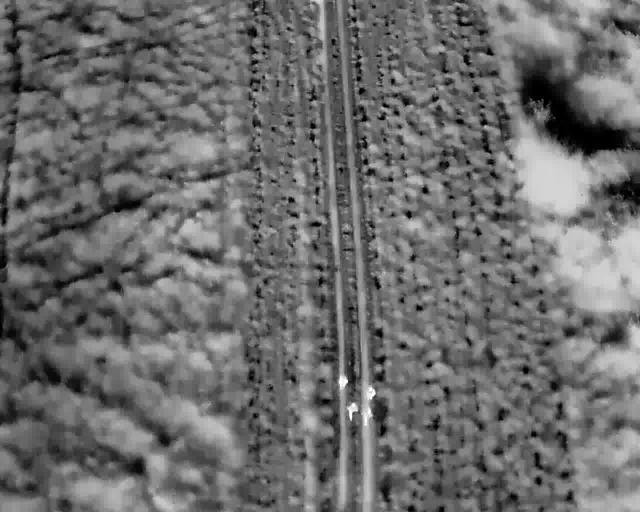person: (359, 406, 374, 429), (346, 400, 359, 422), (362, 383, 376, 402), (337, 373, 349, 391)
